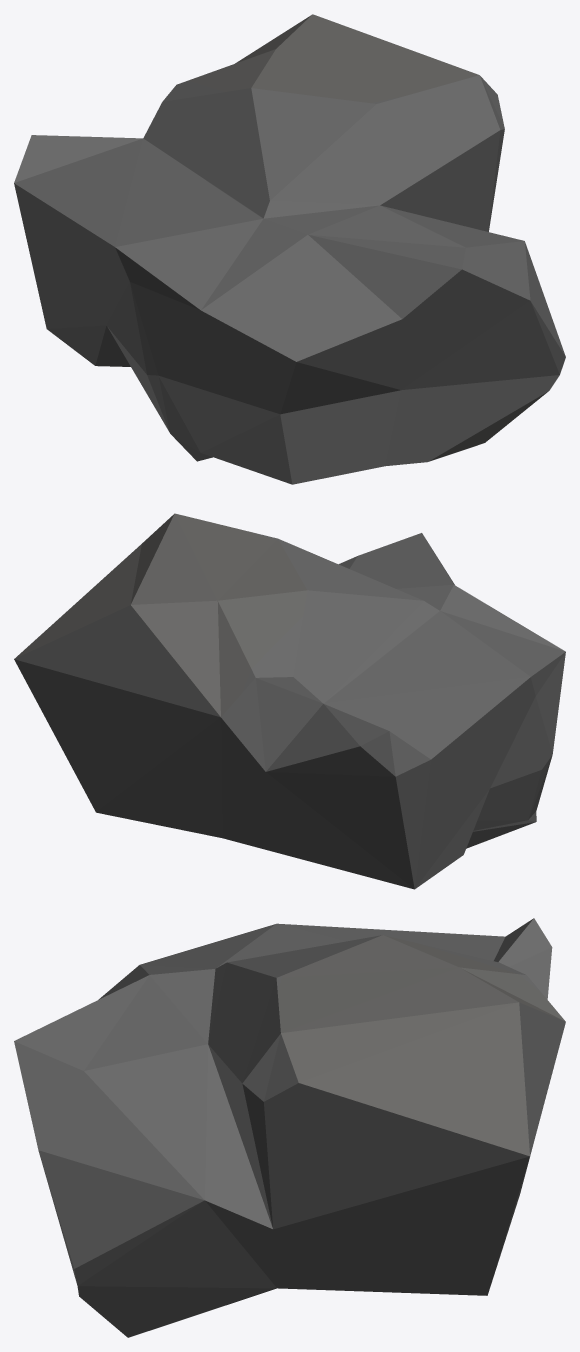
Rendered from TreePackage.fbx_Rocks_10.fbx.
3 renders of one model, top to bottom at view 1: azimuth 30°, elevation 25°; view 2: azimuth 150°, elevation 25°; view 3: azimuth 270°, elevation 25°, orthographic. The views are drawn at different scales.
Visible parts, largest first — view 1: RockCluster.000; view 2: RockCluster.000; view 3: RockCluster.000.
Boxes of the visible parts, bbox=[...] form: RockCluster.000: bbox=[14, 14, 565, 484]; RockCluster.000: bbox=[14, 513, 565, 889]; RockCluster.000: bbox=[14, 918, 565, 1337].
Bounding box in the file's own units: 115 × 80.06 × 116.
